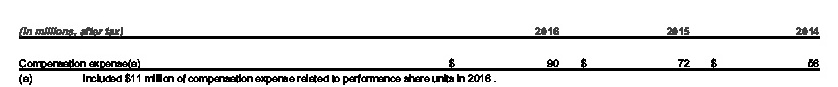table: (0, 0, 838, 87)
